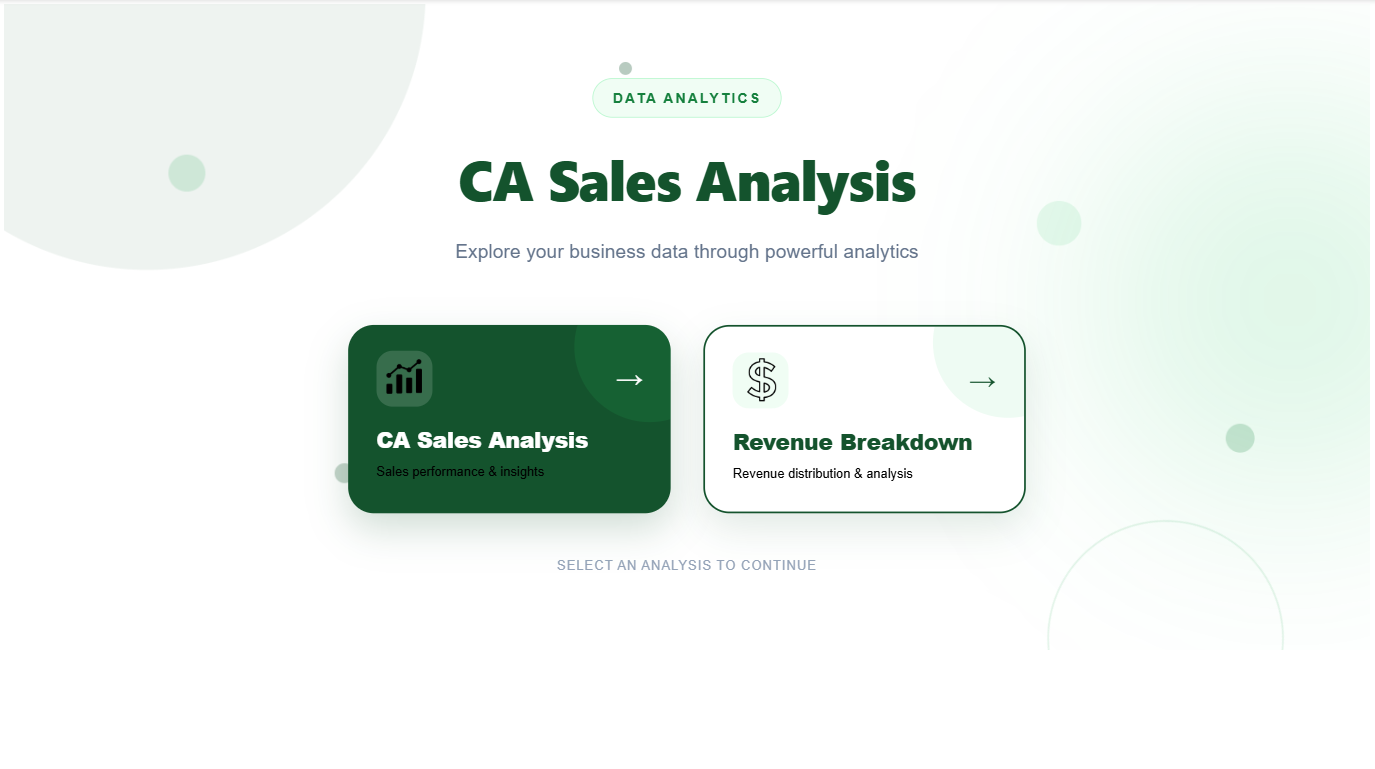

This screenshot's page, from the dashboard's own definition file:
{"tool":"powerbi","page":{"name":"Home Page","canvas":[1280,720],"ordinal":0},"visuals":[{"type":"htmlContent443BE3AD55E043BF878BED274D3A6855","fields":{"content":["CA Sales.HomePage"]},"box":[0,0,1280.2,719.8],"z":0},{"type":"shape","box":[325.6,302.3,298.8,179.1],"z":1},{"type":"shape","box":[652.3,302.3,301.2,170.9],"z":2},{"type":"image","box":[359.3,326.7,34.9,48.8],"z":3},{"type":"image","box":[676.7,332.6,65.1,43],"z":4}]}

Visuals, with their boxes in screenshot pixels (x1, y1, x2, y2), scaled from the page's 1280x720 canvas onto the 1375x769 screenshot:
htmlContent443BE3AD55E043BF878BED274D3A6855 - CA Sales.HomePage: l=0, t=0, r=1374, b=768
shape: l=350, t=323, r=671, b=514
shape: l=701, t=323, r=1024, b=505
image: l=386, t=349, r=423, b=401
image: l=727, t=355, r=797, b=401
